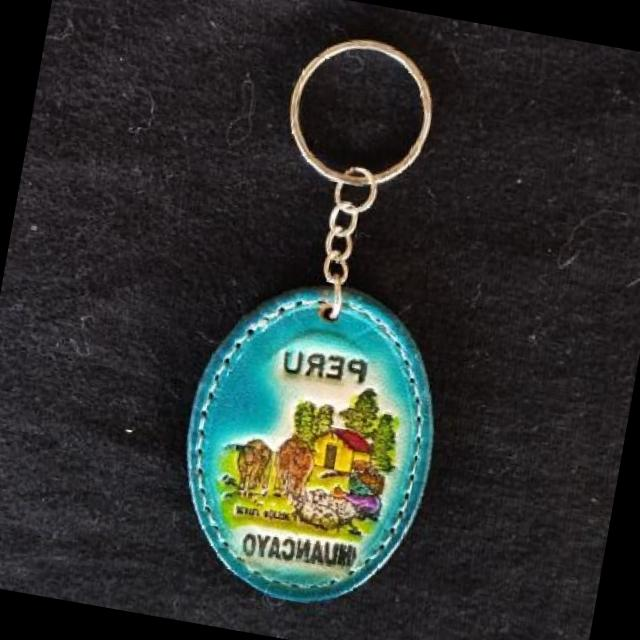Llavero: (160, 262, 459, 620)
